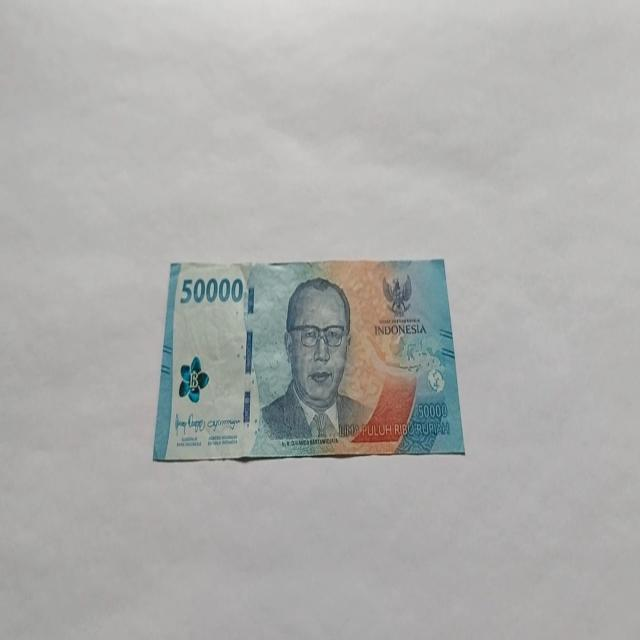lima puluh ribu rupiah: (152, 256, 466, 463), (252, 274, 372, 452)
